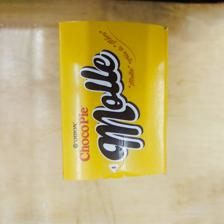Molle: (57, 19, 169, 182)
